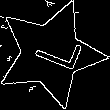L_W: (20, 30, 81, 78)
